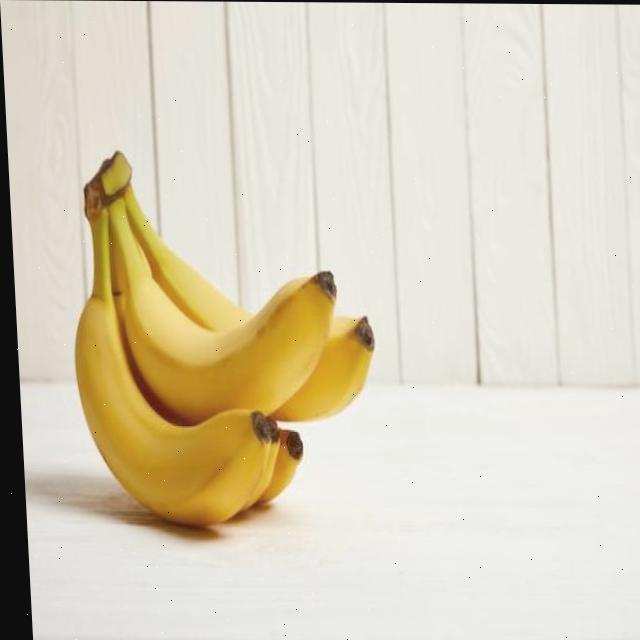banana: (61, 140, 388, 540)
